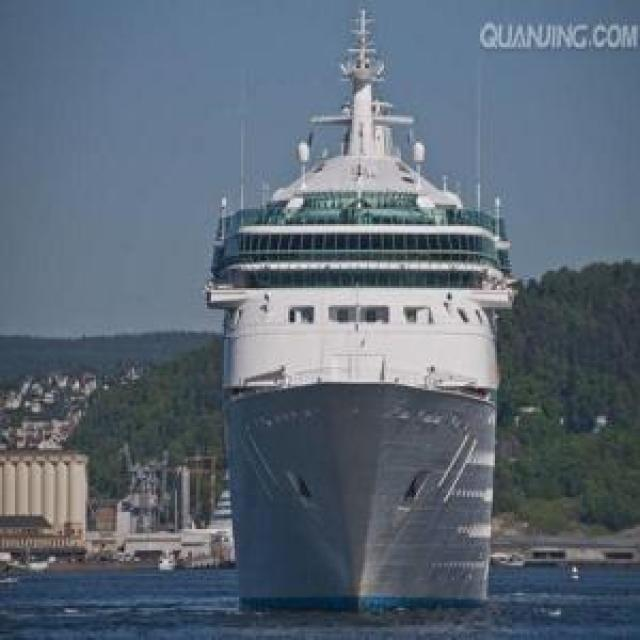passenger ship: (201, 8, 506, 603)
